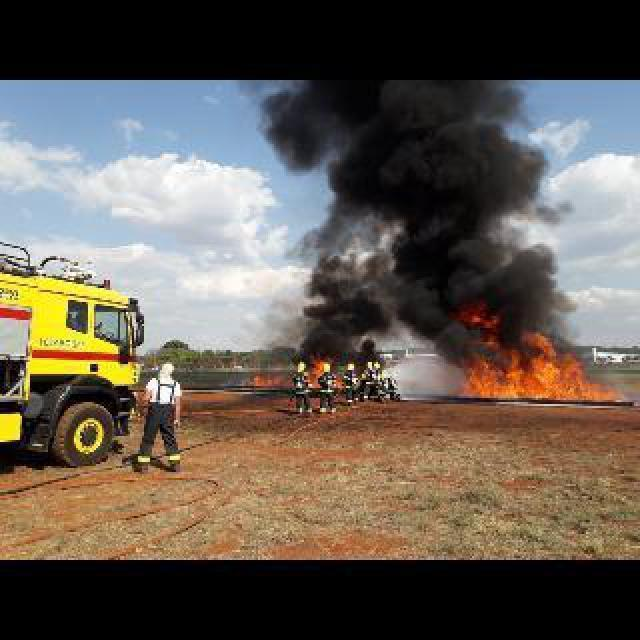Fire: (462, 336, 626, 400), (460, 302, 504, 328), (310, 354, 330, 384), (252, 370, 286, 386)
Smoke: (270, 78, 576, 340)
